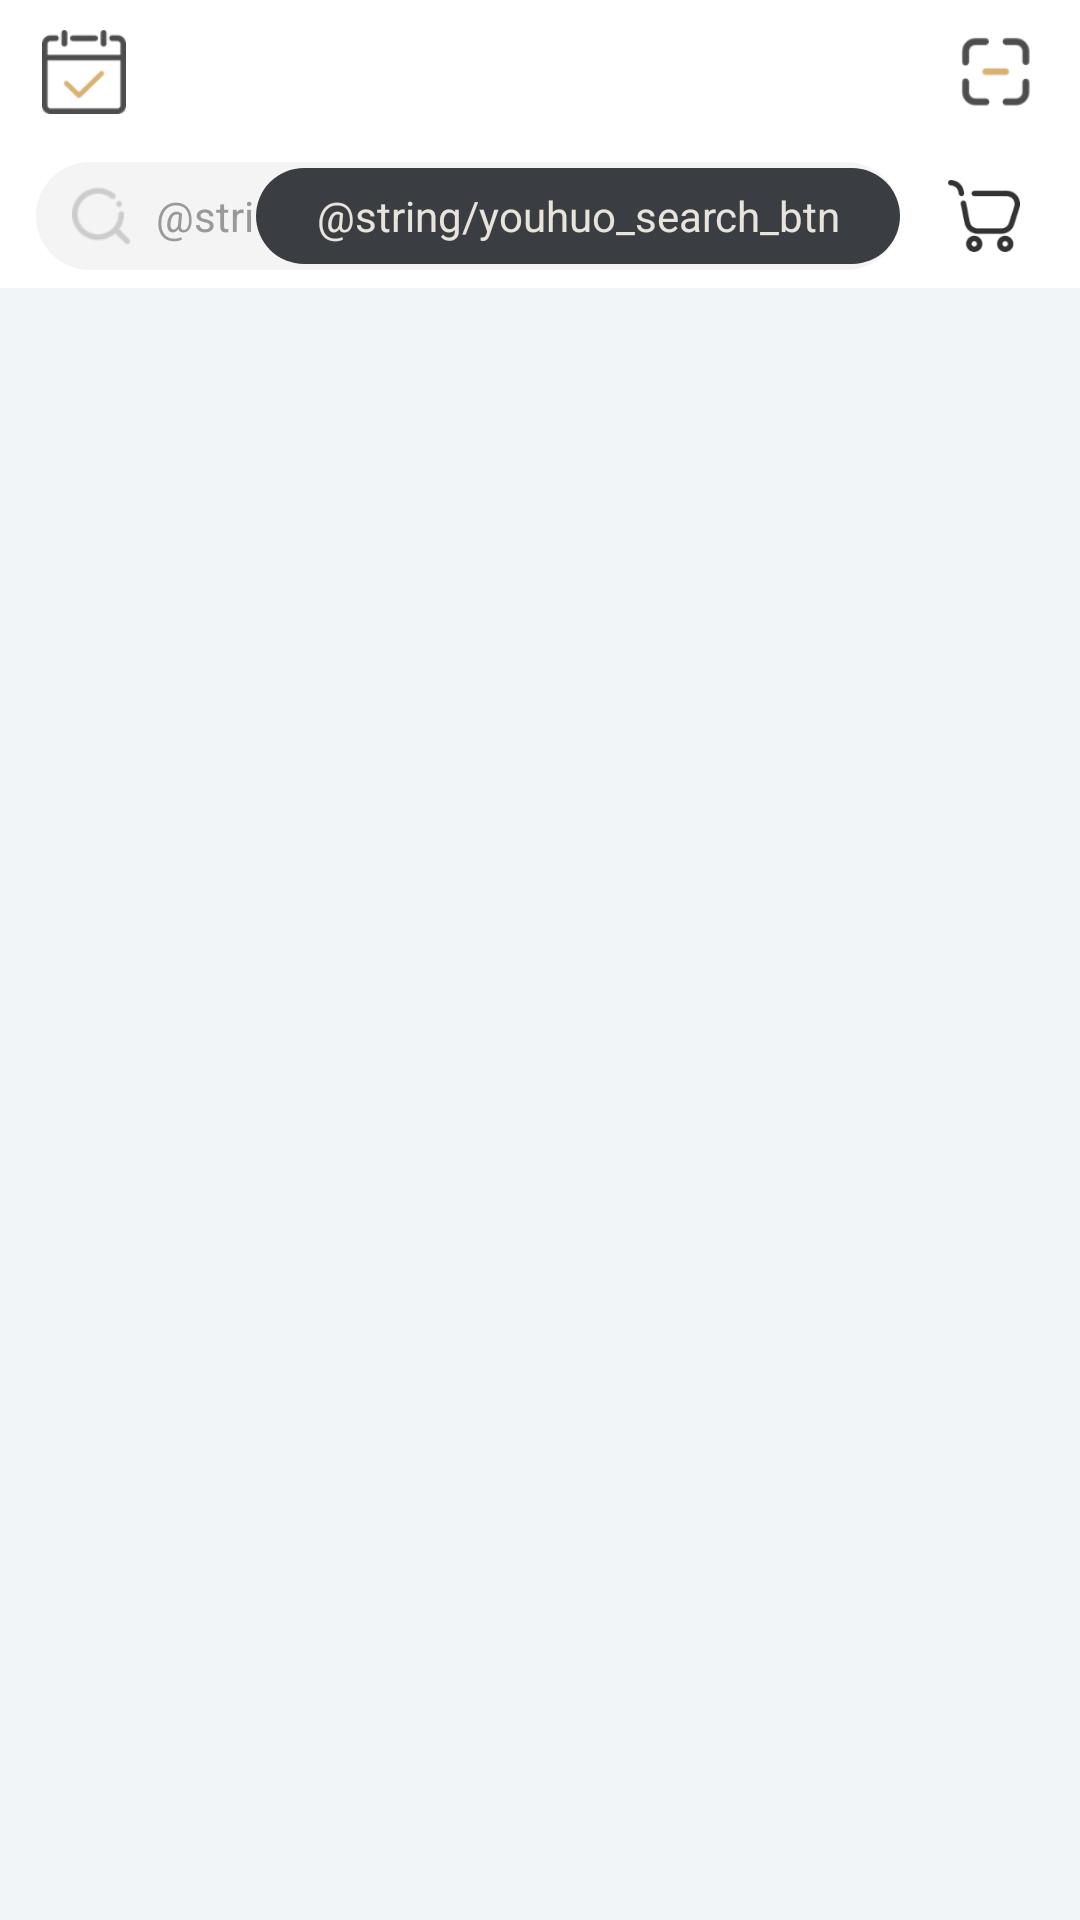

Locate icon controls on the screen. Image size 1080 × 1920, boxes as [left=x1, top=y1, right=x2, bottom=y2].
calendar: [left=42, top=30, right=126, bottom=114]
scan: [left=962, top=38, right=1030, bottom=106]
